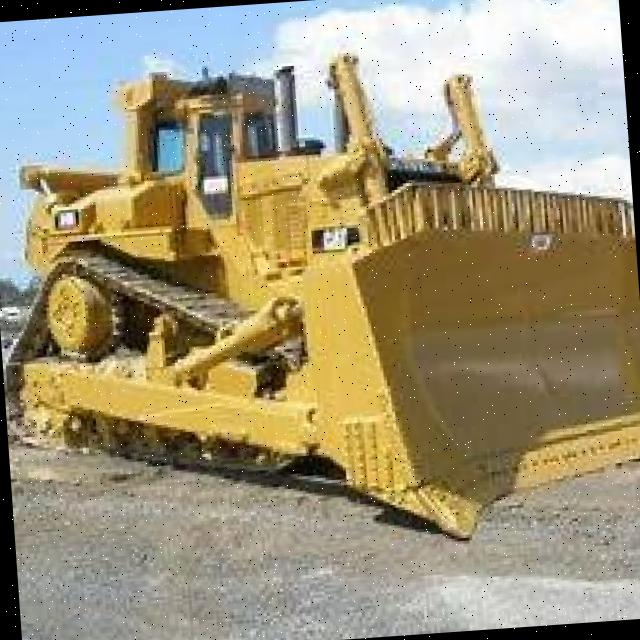Bulldozer: (0, 16, 640, 577)
